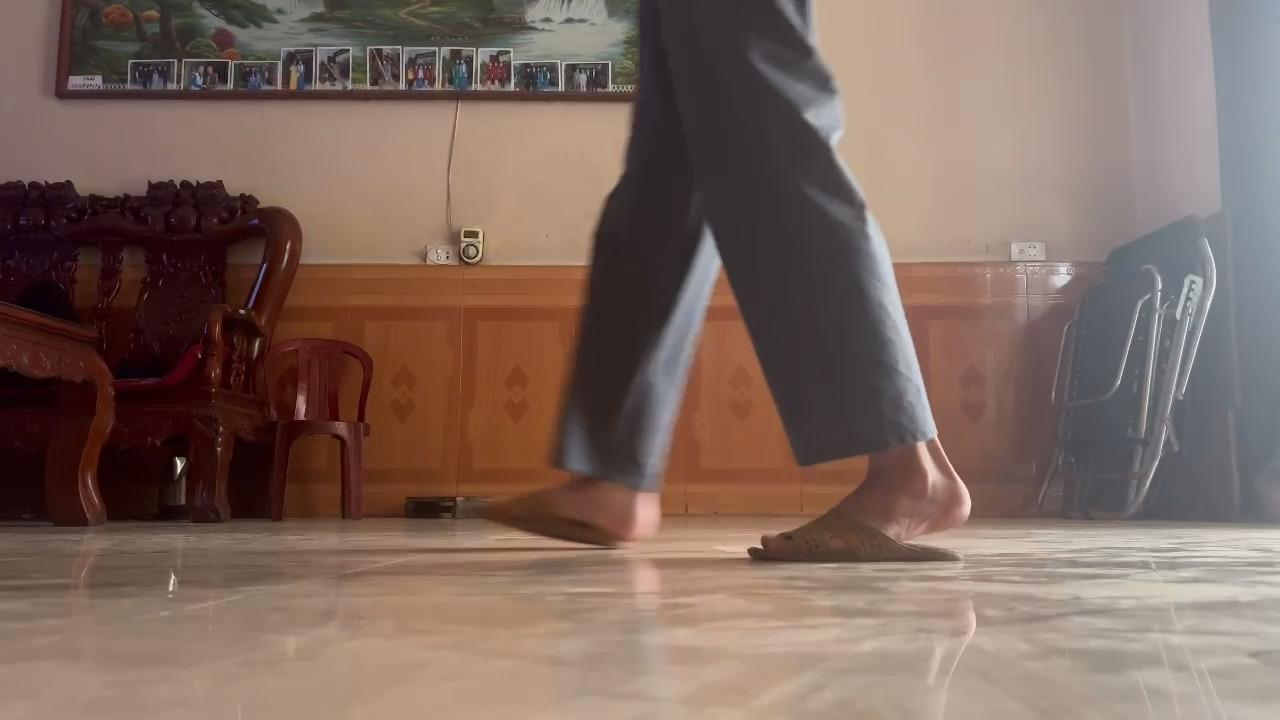no-boot: (742, 462, 983, 572), (458, 483, 662, 560)
